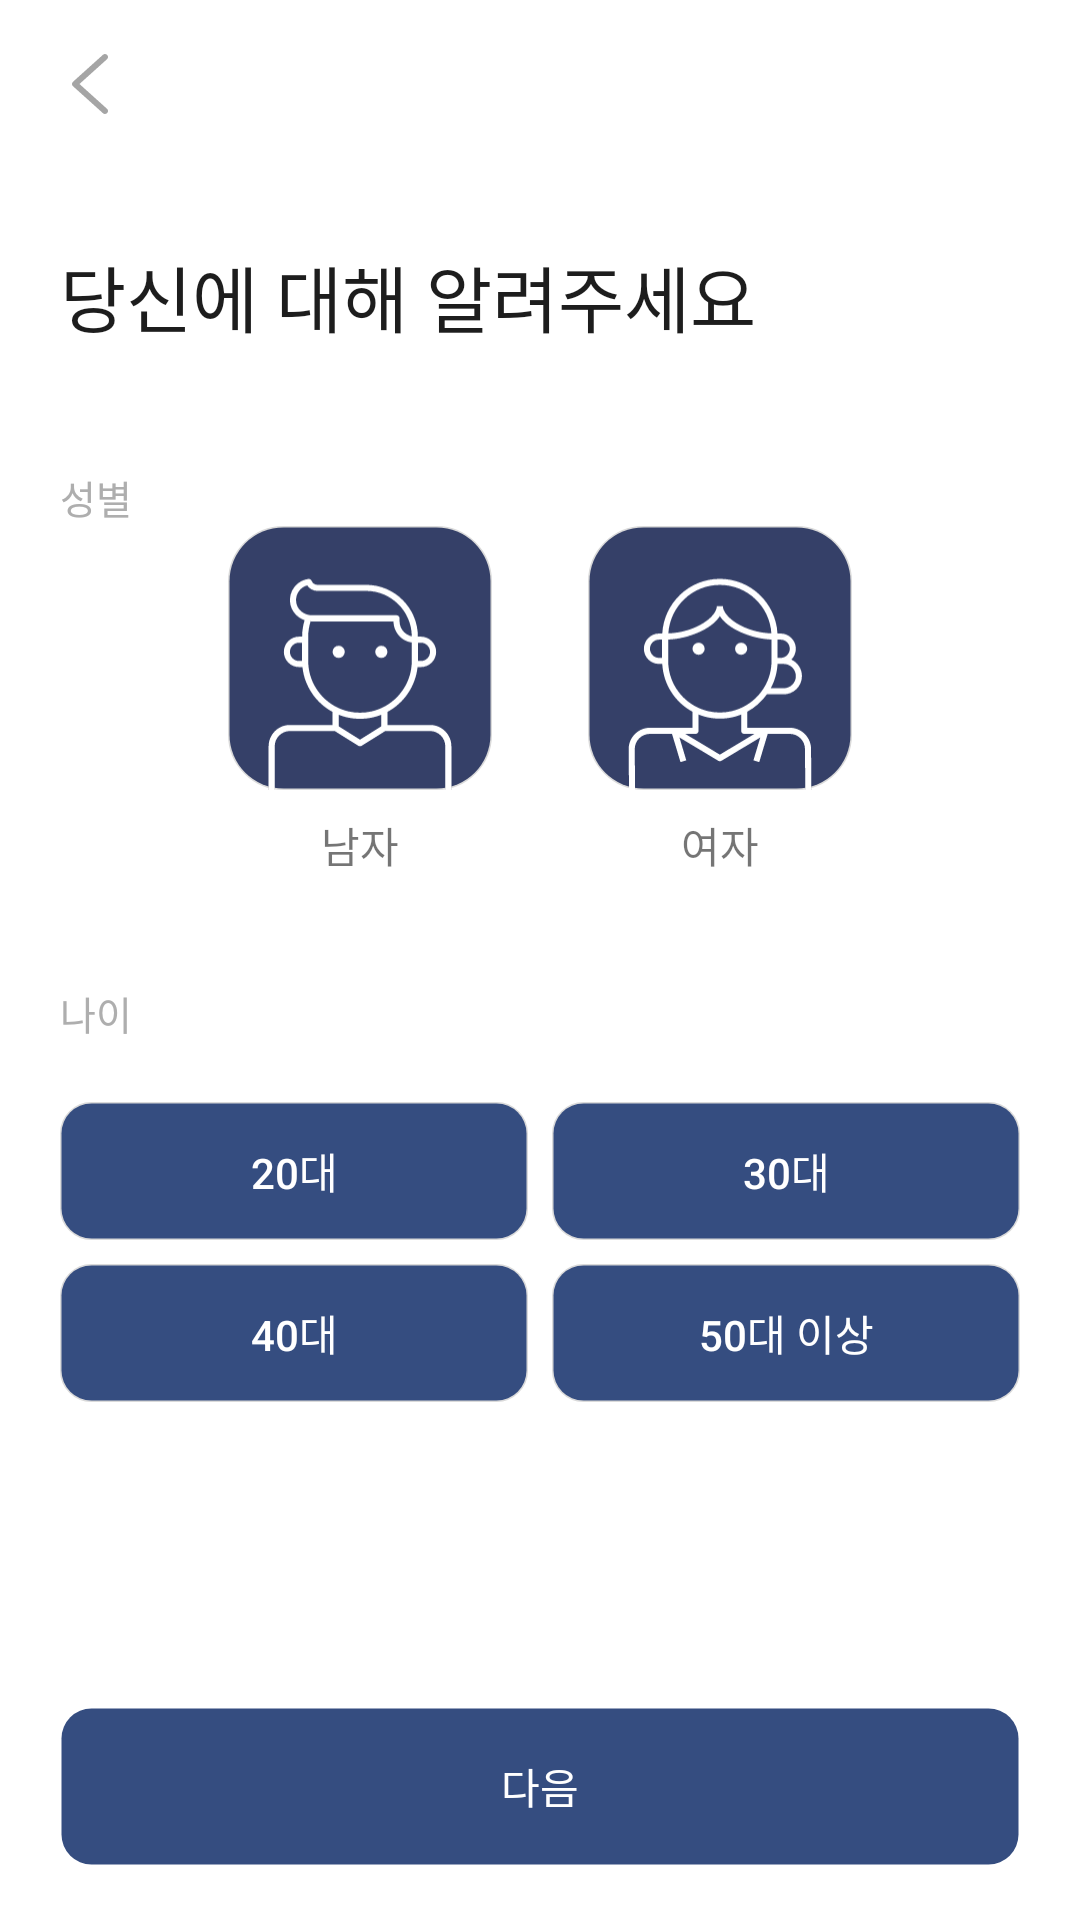

Where icons sit on this 1080×1920 app screen, as (x1, y1, x2, y2):
뒤로가기 버튼: (72, 54, 108, 114)
